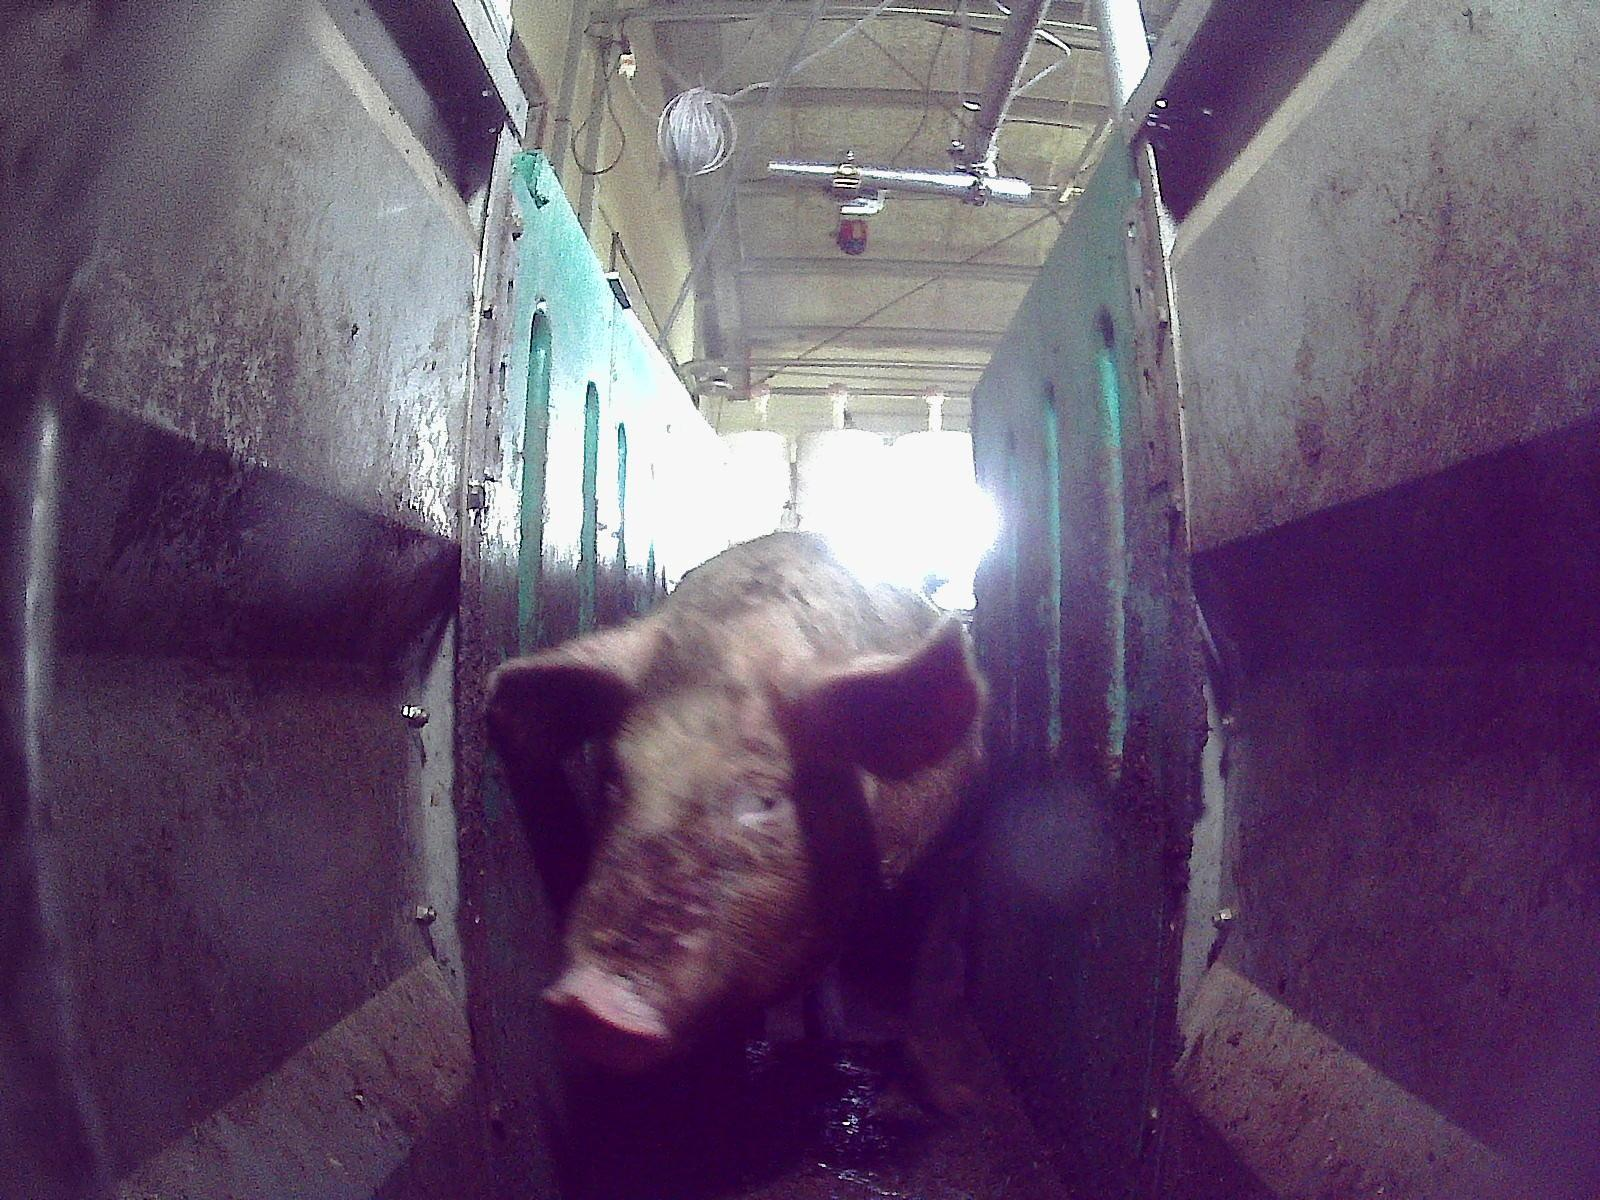Face: (537, 609, 895, 1077)
